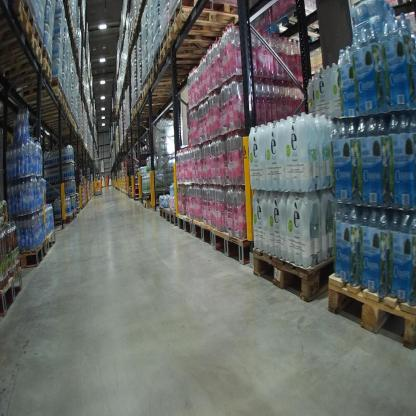pallet: (326, 270, 415, 350), (252, 244, 356, 303), (269, 4, 334, 45), (168, 8, 238, 46), (1, 1, 36, 69), (2, 32, 43, 85), (166, 1, 237, 31), (6, 57, 54, 95), (212, 227, 256, 267), (159, 35, 209, 65), (153, 58, 211, 83), (0, 271, 26, 318), (25, 87, 63, 116), (147, 70, 187, 96), (15, 239, 49, 269), (23, 76, 63, 101), (141, 82, 190, 99), (36, 97, 67, 119), (192, 219, 215, 248), (130, 106, 172, 121), (142, 194, 177, 210), (136, 98, 171, 114), (179, 213, 195, 239), (34, 24, 45, 53), (48, 212, 74, 223), (166, 206, 179, 227), (62, 2, 74, 23), (45, 230, 56, 252), (44, 46, 53, 71), (65, 21, 76, 35), (159, 204, 167, 222), (139, 84, 149, 98), (74, 48, 80, 66), (70, 36, 78, 47), (62, 91, 68, 105), (135, 94, 141, 108), (73, 209, 78, 220)
pallet_truck: (92, 154, 104, 198)
